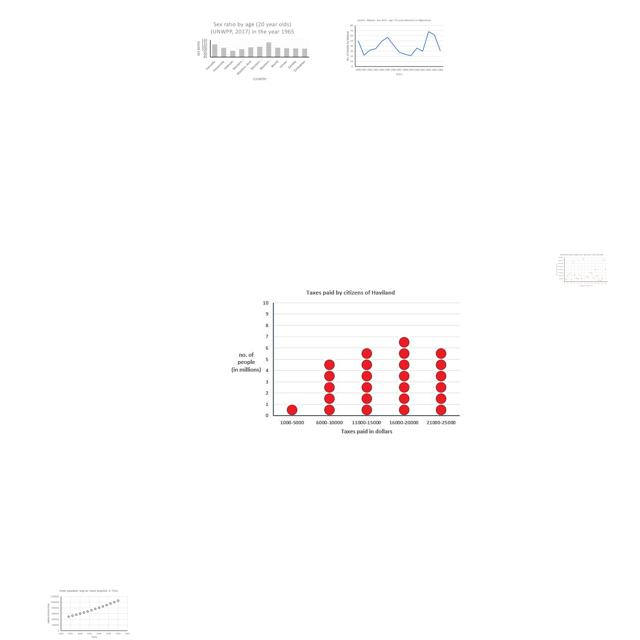Graph: (224, 284, 464, 441), (194, 19, 311, 82), (344, 17, 445, 77), (43, 588, 131, 640), (556, 253, 609, 287)
